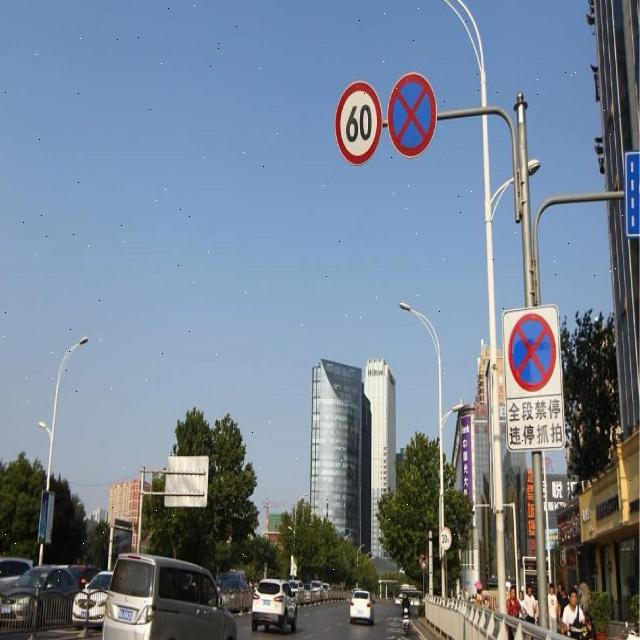speed limit 60: (335, 81, 382, 164)
